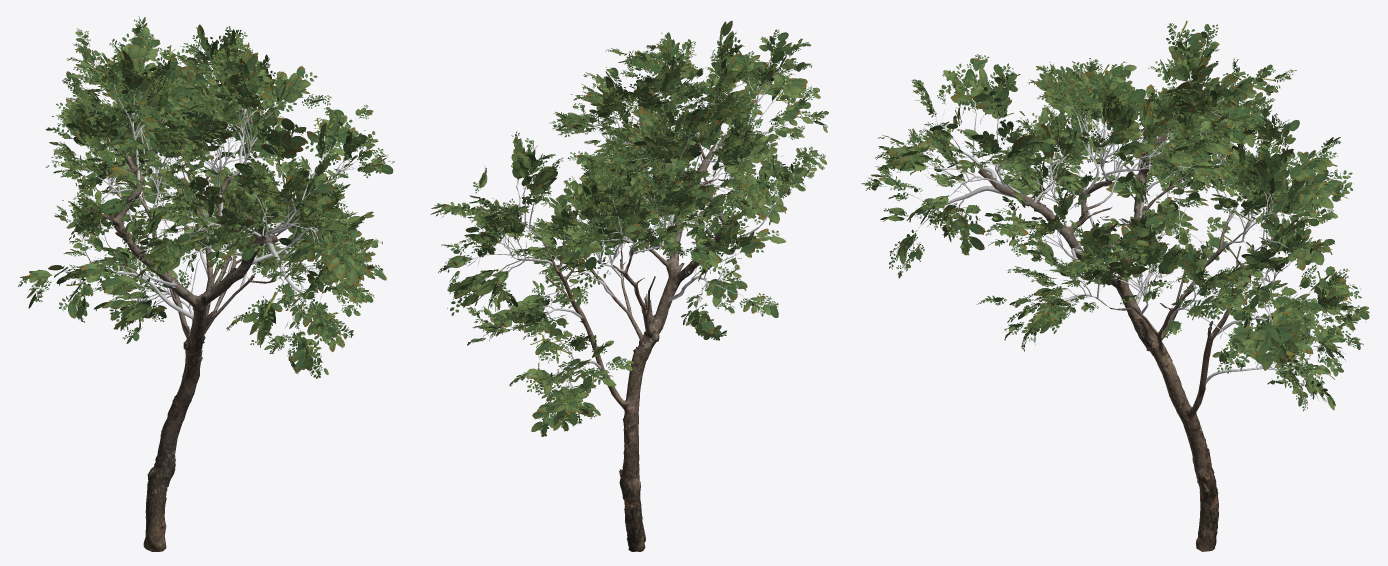
File: tree_small_02_detail.gltf
3 renders of one model, left to right at view 1: azimuth 30°, elevation 25°; view 2: azimuth 150°, elevation 25°; view 3: azimuth 270°, elevation 25°, orthographic. The views are drawn at different scales.
Visible parts, largest first — view 1: baum; view 2: baum; view 3: baum.
Part boxes in pixels (left/top/right/bottom): baum: left=18, top=16, right=394, bottom=551; baum: left=430, top=21, right=828, bottom=551; baum: left=861, top=20, right=1369, bottom=551.
Bounding box in the file's own units: 2.99 × 4.6 × 4.34.
